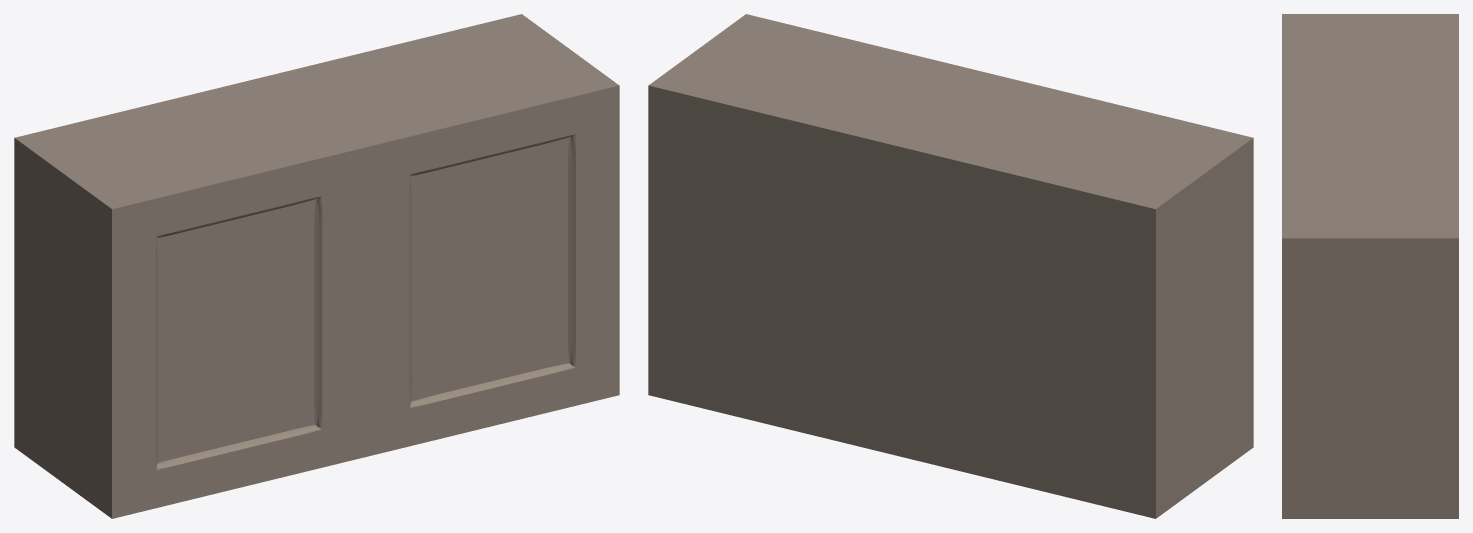
Rendered from Wall-Cabinet-21-High-12-Deep_std_001_W36in.glb.
The picture shows the model from 3 angles, left to right: view 1: azimuth 30°, elevation 25°; view 2: azimuth 150°, elevation 25°; view 3: azimuth 270°, elevation 25°; orthographic projection. The views are drawn at different scales.
Parts seen in each view (by area): view 1: Wall-Cabinet-21-High-12-Deep.std.001_W36in; view 2: Wall-Cabinet-21-High-12-Deep.std.001_W36in; view 3: Wall-Cabinet-21-High-12-Deep.std.001_W36in.
Part boxes in pixels (x1,y1,x2,y2): Wall-Cabinet-21-High-12-Deep.std.001_W36in: [14, 14, 619, 518]; Wall-Cabinet-21-High-12-Deep.std.001_W36in: [648, 14, 1253, 518]; Wall-Cabinet-21-High-12-Deep.std.001_W36in: [1282, 14, 1458, 518].
Size of the model in its own units: 0.9144 by 0.5334 by 0.3048.
